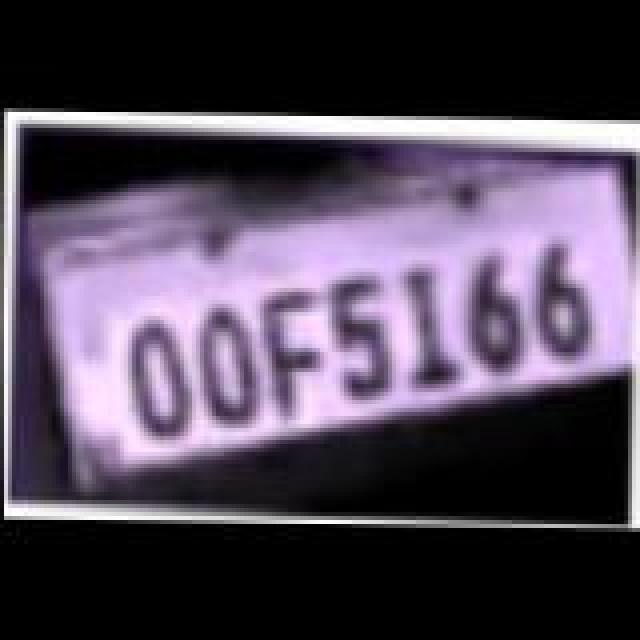5: (310, 274, 414, 406)
6: (440, 250, 548, 382), (504, 240, 612, 368)
F: (240, 288, 348, 424)
I: (380, 264, 480, 396)
O: (172, 304, 280, 436), (106, 316, 214, 448)
